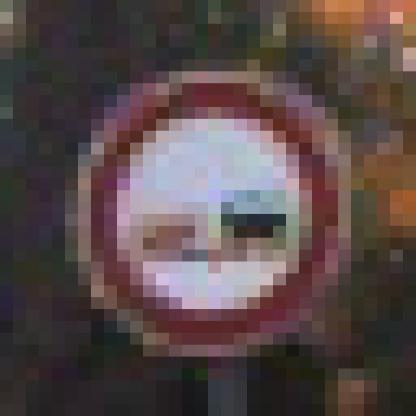No Overtaking: (66, 61, 352, 358)
